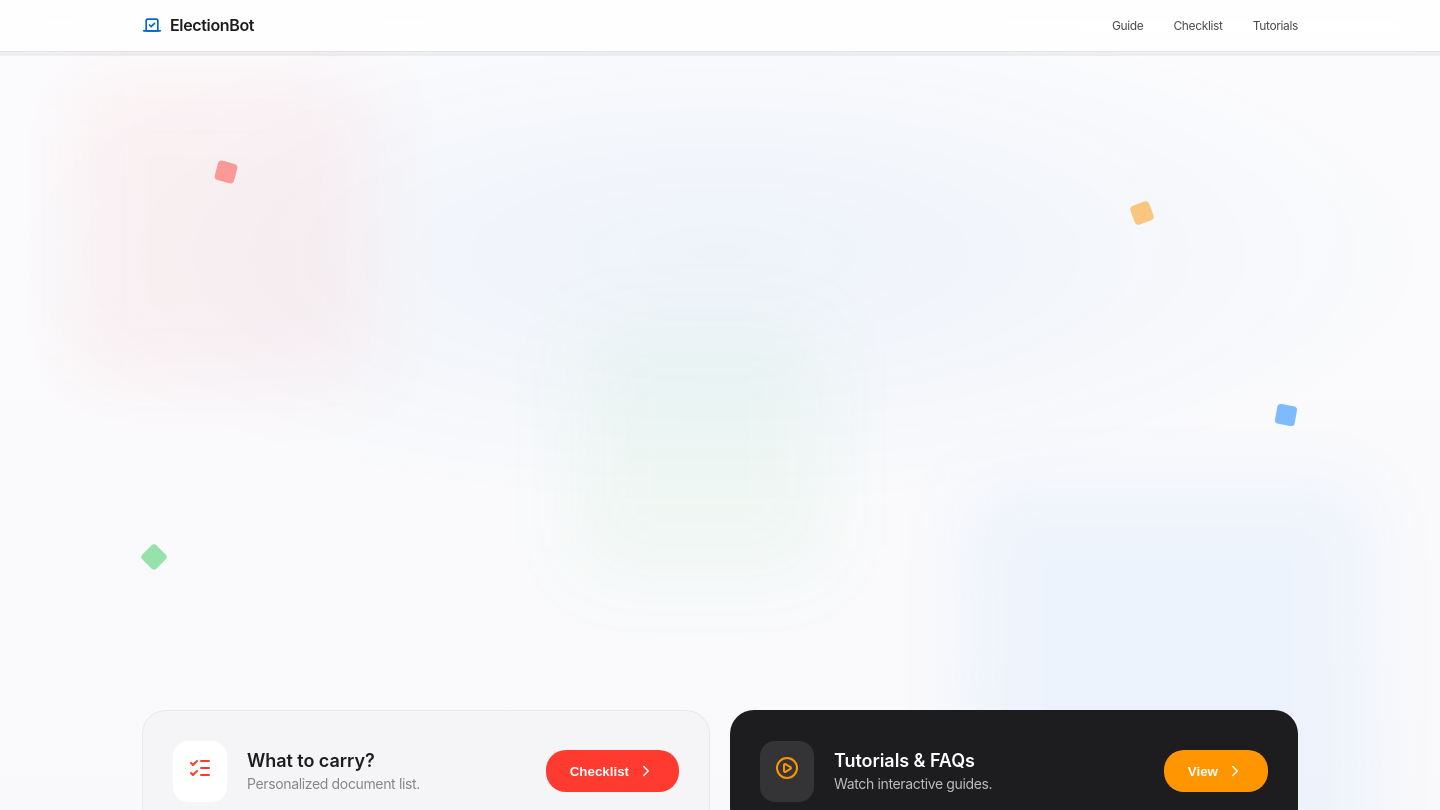
Scenario: App Components › navigates to ChecklistPage
This screenshot has width=1440, height=810.
Click the 3rd link "Checklist". click: click(1198, 26)
box: [1174,17,1223,34]
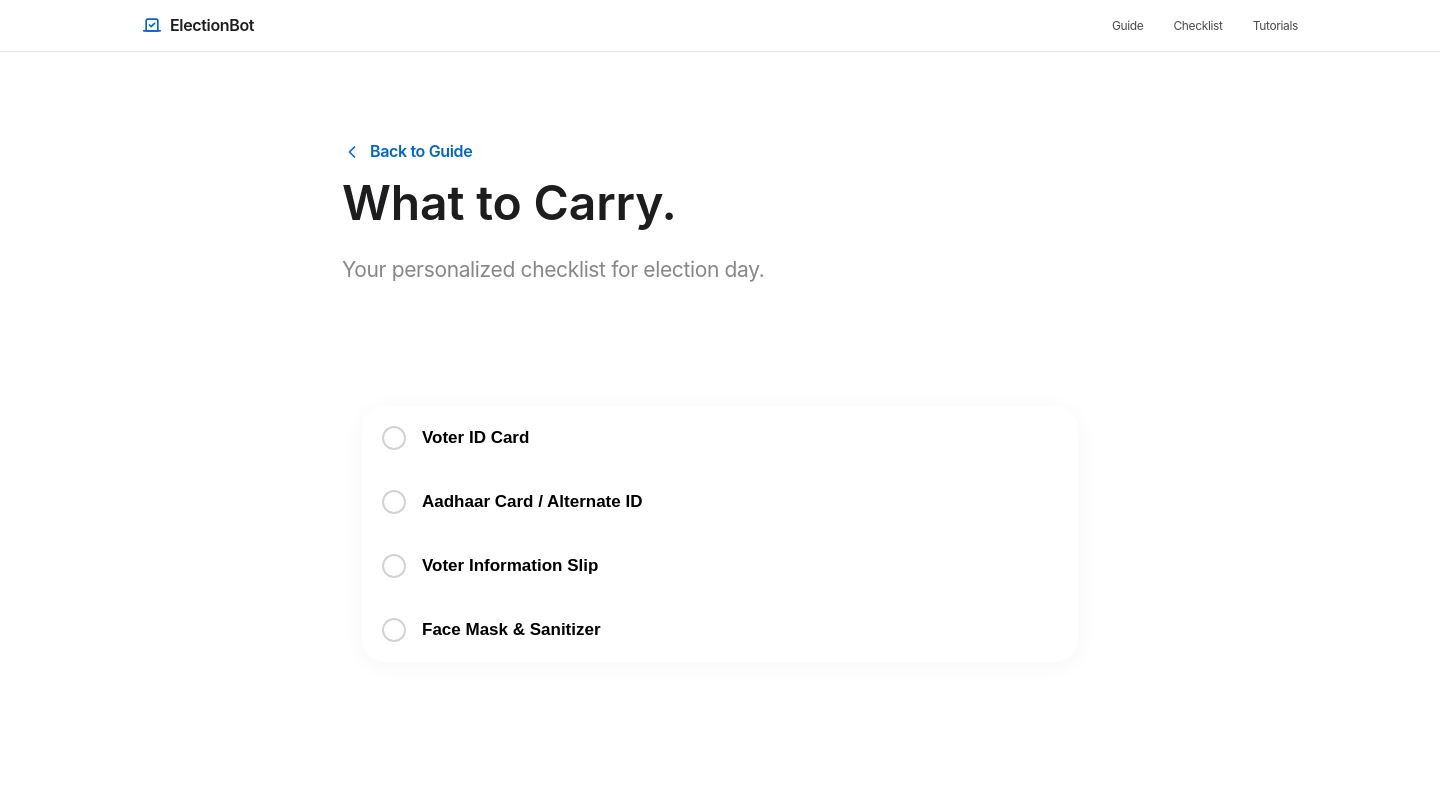
Check: the heading "What to Carry." is shown, box [342,173,677,232]
